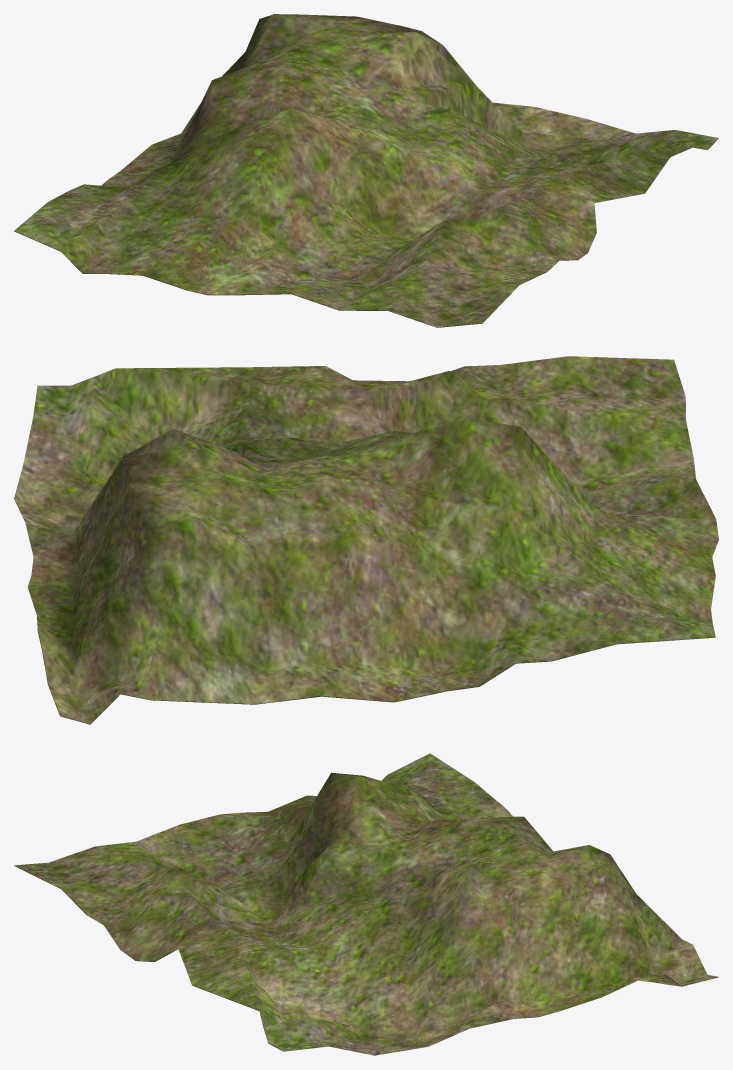
File: cave.fbx
3 views of the same model, one above another, from view 1: azimuth 30°, elevation 25°; view 2: azimuth 150°, elevation 25°; view 3: azimuth 270°, elevation 25° (orthographic). The views are drawn at different scales.
Parts seen in each view (by area): view 1: cave1; view 2: cave1; view 3: cave1.
Part boxes in pixels (<box>): cave1: <box>14,14,718,327</box>; cave1: <box>14,356,718,724</box>; cave1: <box>14,753,718,1055</box>.
Size of the model in its own units: 4900 by 1086 by 4973.
Materials: 1 (1 with a texture image).
